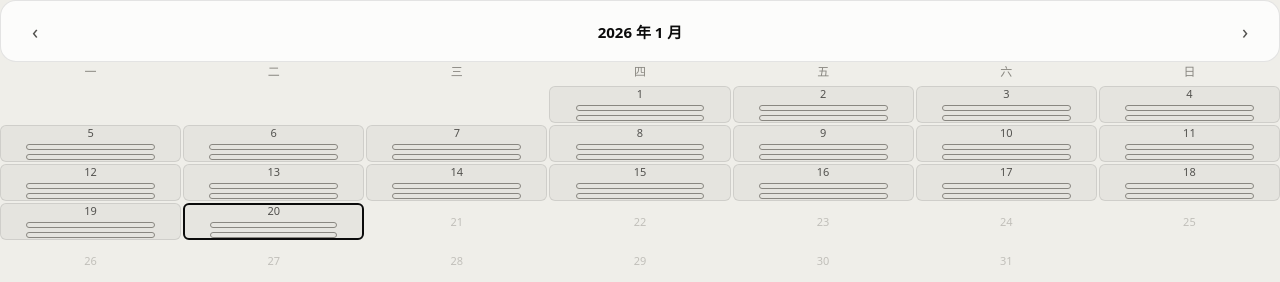
Scenario: 日历视图 › 翻到下个月：标题跟着变，翻到还没到的月份显示说明
Click the button named "下个月": (1245, 31) [1223, 9, 1267, 53]
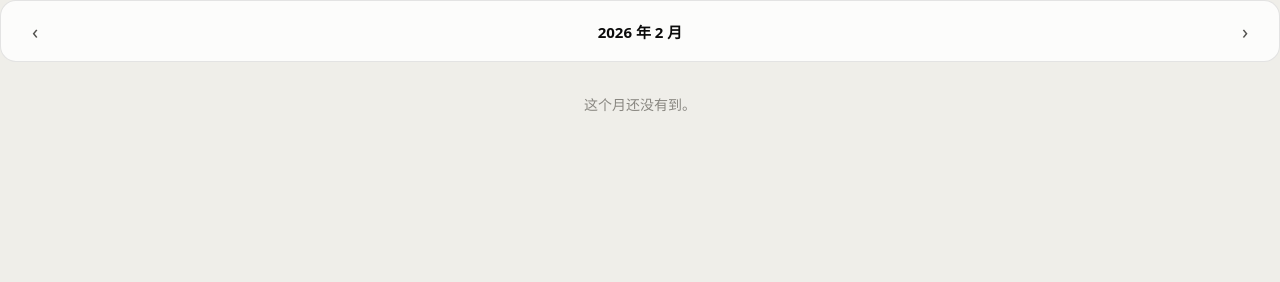
Result: the text "2026 年 2 月" is shown at [598, 20, 682, 42]
Result: the text "这个月还没有到。" is shown at [584, 95, 696, 114]
